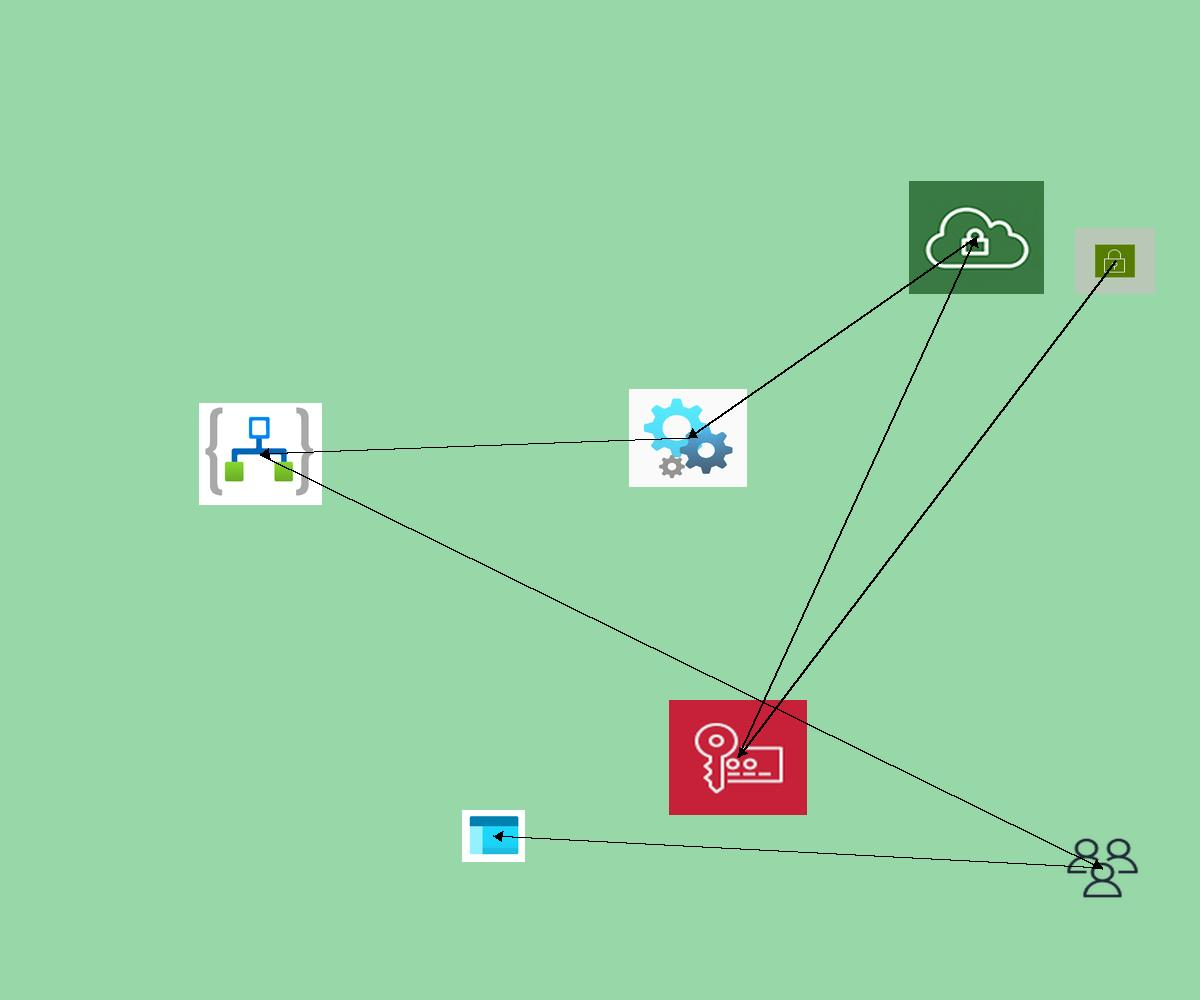AWS-Key-Management-Service: (669, 700, 807, 815)
AWS-Private_vpc: (909, 181, 1044, 294)
AWS-Public-subnet: (1075, 228, 1155, 294)
AWS-Res_Users: (1064, 836, 1141, 900)
Azure_api: (629, 389, 747, 487)
Azure_integration-204-Logic-Apps: (199, 403, 322, 505)
Azure_management-portal: (462, 810, 525, 862)
